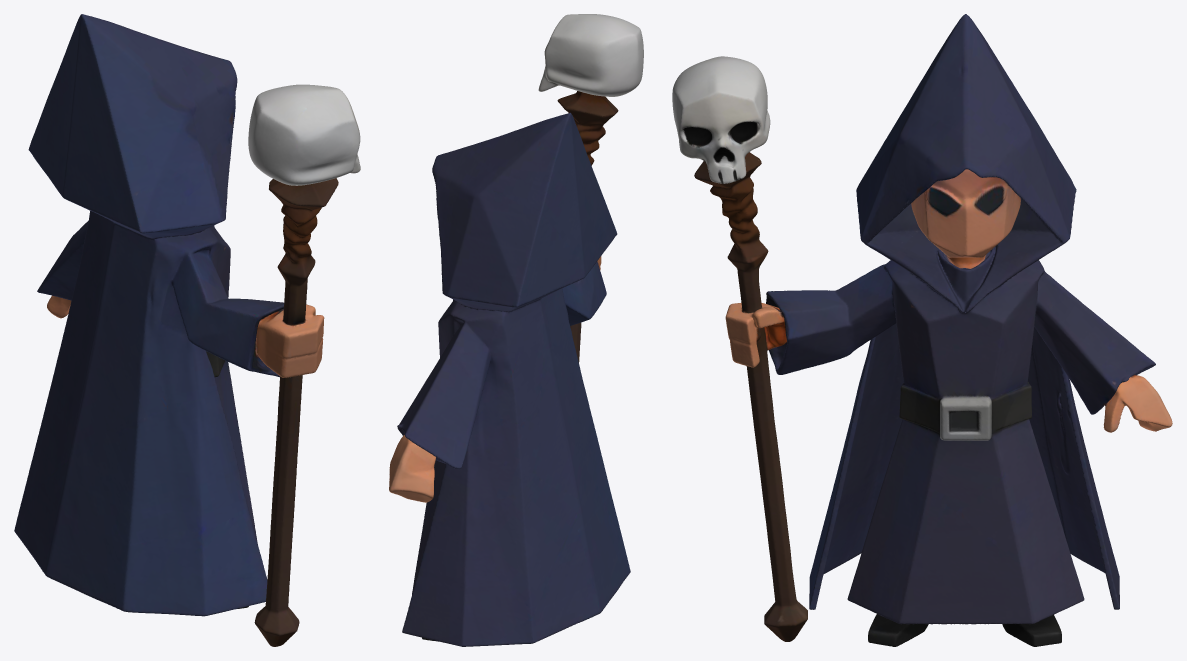
Rendered from necromancer.glb.
3 renders of one model, left to right at view 1: azimuth 30°, elevation 25°; view 2: azimuth 150°, elevation 25°; view 3: azimuth 270°, elevation 25°, orthographic. The views are drawn at different scales.
Visible parts, largest first — view 1: tripo_node_ad6c65cc-263b-431f-ab77-b7d4c9db0ca7; view 2: tripo_node_ad6c65cc-263b-431f-ab77-b7d4c9db0ca7; view 3: tripo_node_ad6c65cc-263b-431f-ab77-b7d4c9db0ca7.
Boxes of the visible parts, <box> form: tripo_node_ad6c65cc-263b-431f-ab77-b7d4c9db0ca7: <box>14,14,360,646</box>; tripo_node_ad6c65cc-263b-431f-ab77-b7d4c9db0ca7: <box>389,14,643,646</box>; tripo_node_ad6c65cc-263b-431f-ab77-b7d4c9db0ca7: <box>672,14,1172,646</box>.
Size of the model in its own units: 0.3354 by 1 by 0.7855.
Materials: 1 (1 with a texture image).
